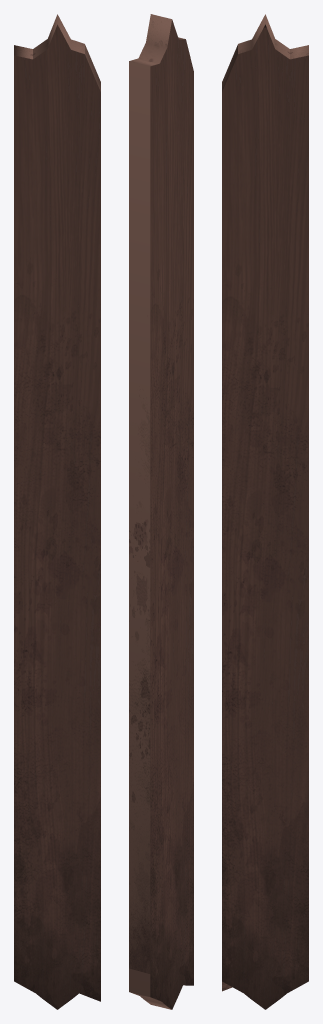
Rendered from fence_5.fbx.
The picture shows the model from 3 angles, left to right: view 1: azimuth 90°, elevation 25°; view 2: azimuth 150°, elevation 25°; view 3: azimuth 270°, elevation 25°; orthographic projection.
Visible parts, largest first — view 1: Box016; view 2: Box016; view 3: Box016.
Part boxes in pixels (left/top/right/bottom): Box016: left=14, top=14, right=100, bottom=1009; Box016: left=129, top=14, right=193, bottom=1009; Box016: left=222, top=14, right=308, bottom=1009.
Bounding box in the file's own units: 0.3209 × 14.21 × 1.13.
